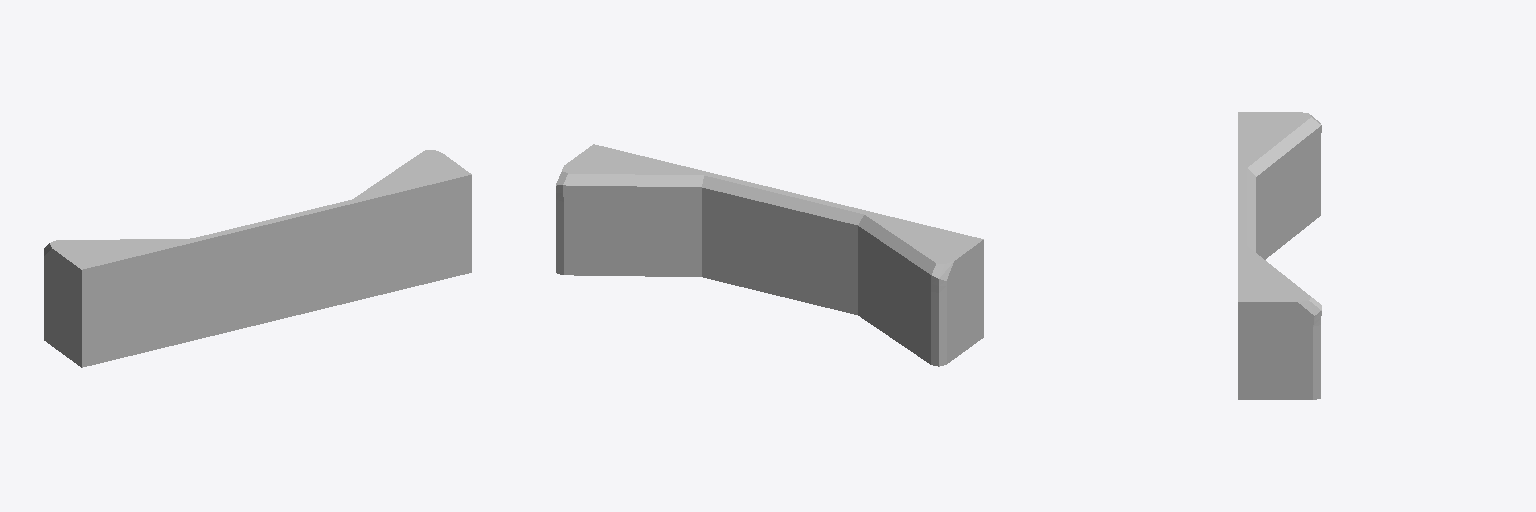
File: contorl panel.obj
3 views of the same model, side by side, from view 1: azimuth 30°, elevation 25°; view 2: azimuth 150°, elevation 25°; view 3: azimuth 270°, elevation 25° (orthographic).
Visible parts, largest first — view 1: control_panel meter; view 2: control_panel meter; view 3: control_panel meter.
Boxes of the visible parts, x1=… form: control_panel meter: x1=44, y1=150, x2=471, y2=367; control_panel meter: x1=556, y1=144, x2=983, y2=366; control_panel meter: x1=1238, y1=112, x2=1321, y2=399.
Bounding box in the file's own units: 250 × 60 × 46.26.